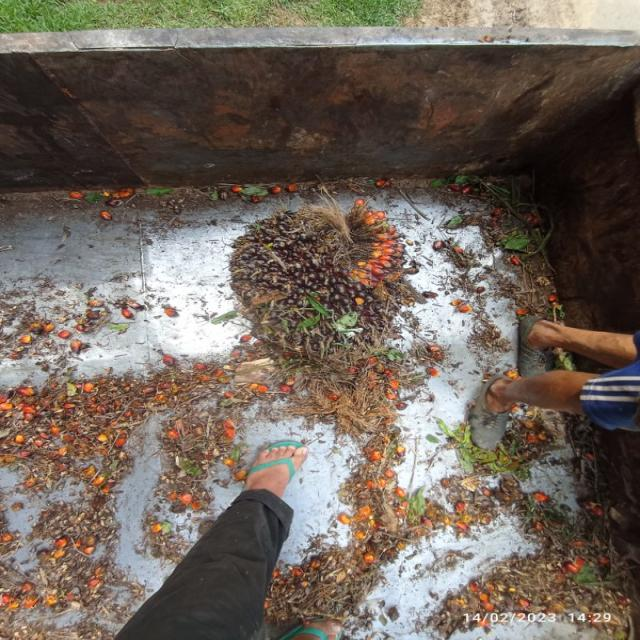fraksi 00: (233, 204, 405, 362)
